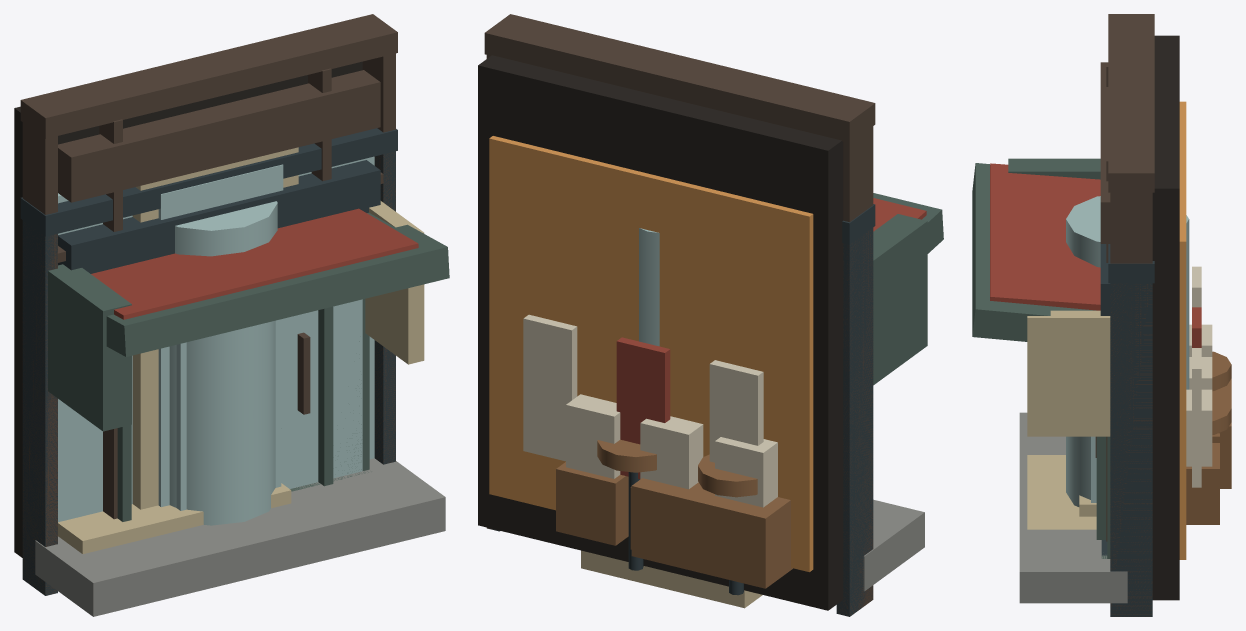
File: storefront-modules.glb
The picture shows the model from 3 angles, left to right: view 1: azimuth 30°, elevation 25°; view 2: azimuth 150°, elevation 25°; view 3: azimuth 270°, elevation 25°; orthographic projection. The views are drawn at different scales.
Parts seen in each view (by area): view 1: office-lobby-weathered-bronze-merged, office-lobby-clear-podium-glass-merged, cafe-storefront-dark-structural-steel-merged, service-loading-architectural-concrete-merged, cafe-storefront-shop-canopy-merged, market-storefront-painted-metal-merged, cafe-storefront-clear-podium-glass-merged, bookstore-storefront-painted-metal-merged, office-lobby-interior-shadow-card-merged, service-loading-painted-metal-merged, residential-entry-warm-limestone-merged, cafe-storefront-warm-limestone-merged (+4 smaller); view 2: office-lobby-warm-interior-card-merged, office-lobby-interior-shadow-card-merged, cafe-storefront-warm-interior-card-merged, office-lobby-weathered-bronze-merged, cafe-storefront-interior-shadow-card-merged, office-lobby-shop-oak-merged, cafe-storefront-dark-structural-steel-merged, gallery-storefront-display-paper-merged, bookstore-storefront-display-paper-merged, bookstore-storefront-painted-metal-merged, market-storefront-shop-oak-merged, gallery-storefront-shop-canopy-merged (+6 smaller); view 3: office-lobby-weathered-bronze-merged, cafe-storefront-dark-structural-steel-merged, cafe-storefront-shop-canopy-merged, office-lobby-interior-shadow-card-merged, gallery-storefront-warm-limestone-merged, service-loading-architectural-concrete-merged, cafe-storefront-interior-shadow-card-merged, market-storefront-painted-metal-merged, office-lobby-clear-podium-glass-merged, residential-entry-warm-limestone-merged, bookstore-storefront-display-paper-merged, office-lobby-warm-interior-card-merged (+9 smaller).
Part boxes in pixels (x1=…): office-lobby-weathered-bronze-merged: x1=20, y1=14, x2=397, y2=595; office-lobby-clear-podium-glass-merged: x1=58, y1=156, x2=374, y2=525; cafe-storefront-dark-structural-steel-merged: x1=20, y1=128, x2=397, y2=595; service-loading-architectural-concrete-merged: x1=35, y1=458, x2=445, y2=616; cafe-storefront-shop-canopy-merged: x1=91, y1=208, x2=418, y2=319; market-storefront-painted-metal-merged: x1=106, y1=212, x2=449, y2=356; cafe-storefront-clear-podium-glass-merged: x1=60, y1=299, x2=374, y2=511; bookstore-storefront-painted-metal-merged: x1=48, y1=264, x2=131, y2=431; office-lobby-interior-shadow-card-merged: x1=14, y1=61, x2=362, y2=557; service-loading-painted-metal-merged: x1=117, y1=299, x2=371, y2=521; residential-entry-warm-limestone-merged: x1=132, y1=147, x2=298, y2=509; cafe-storefront-warm-limestone-merged: x1=58, y1=483, x2=291, y2=553; office-lobby-warm-interior-card-merged: x1=489, y1=136, x2=813, y2=561; office-lobby-interior-shadow-card-merged: x1=478, y1=55, x2=843, y2=610; cafe-storefront-warm-interior-card-merged: x1=489, y1=228, x2=813, y2=572; office-lobby-weathered-bronze-merged: x1=484, y1=14, x2=875, y2=616; cafe-storefront-interior-shadow-card-merged: x1=478, y1=167, x2=843, y2=610; office-lobby-shop-oak-merged: x1=631, y1=478, x2=792, y2=588; cafe-storefront-dark-structural-steel-merged: x1=487, y1=204, x2=875, y2=616; gallery-storefront-display-paper-merged: x1=523, y1=314, x2=763, y2=462; bookstore-storefront-display-paper-merged: x1=566, y1=394, x2=777, y2=507; bookstore-storefront-painted-metal-merged: x1=873, y1=214, x2=927, y2=385; market-storefront-shop-oak-merged: x1=556, y1=462, x2=631, y2=549; gallery-storefront-shop-canopy-merged: x1=616, y1=337, x2=670, y2=479; office-lobby-weathered-bronze-merged: x1=1100, y1=14, x2=1154, y2=616; cafe-storefront-dark-structural-steel-merged: x1=1100, y1=244, x2=1154, y2=616; cafe-storefront-shop-canopy-merged: x1=990, y1=163, x2=1100, y2=310; office-lobby-interior-shadow-card-merged: x1=1152, y1=35, x2=1179, y2=600; gallery-storefront-warm-limestone-merged: x1=1027, y1=310, x2=1110, y2=436; service-loading-architectural-concrete-merged: x1=1019, y1=412, x2=1127, y2=603; cafe-storefront-interior-shadow-card-merged: x1=1152, y1=279, x2=1179, y2=600; market-storefront-painted-metal-merged: x1=972, y1=163, x2=1095, y2=341; office-lobby-clear-podium-glass-merged: x1=1066, y1=196, x2=1189, y2=506; residential-entry-warm-limestone-merged: x1=1027, y1=455, x2=1096, y2=529; bookstore-storefront-display-paper-merged: x1=1186, y1=324, x2=1212, y2=466; office-lobby-warm-interior-card-merged: x1=1179, y1=101, x2=1186, y2=490.
Bounding box in the file's own units: 0.98 × 1.3 × 0.6729.
